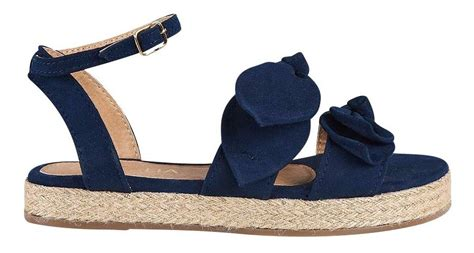gamuza: (27, 14, 450, 200)
